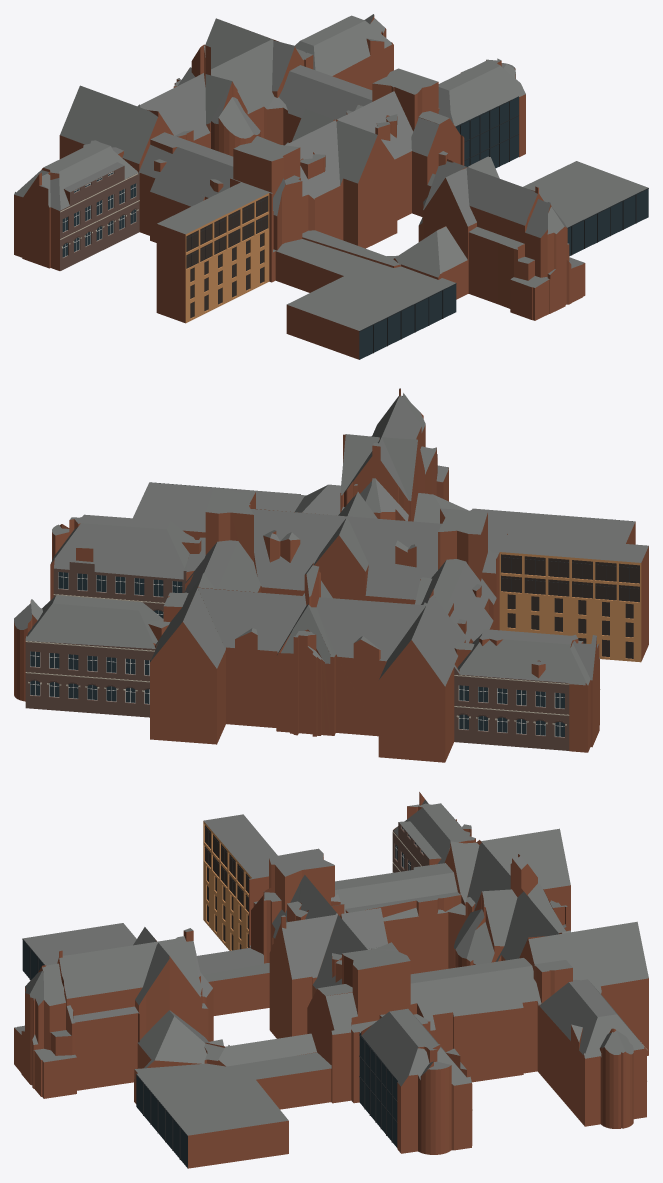
Rendered from recipe-large-hotel-arena-236788.glb.
3 views of the same model, one above another, from view 1: azimuth 30°, elevation 25°; view 2: azimuth 150°, elevation 25°; view 3: azimuth 270°, elevation 25° (orthographic). The views are drawn at different scales.
Visible parts, largest first — view 1: hotel-arena-236788; view 2: hotel-arena-236788; view 3: hotel-arena-236788.
Boxes of the visible parts, x1,y1,x2,y2 form: hotel-arena-236788: (14, 14, 648, 359); hotel-arena-236788: (14, 388, 648, 762); hotel-arena-236788: (14, 792, 648, 1168).
Bounding box in the file's own units: 108 × 28.44 × 103.
